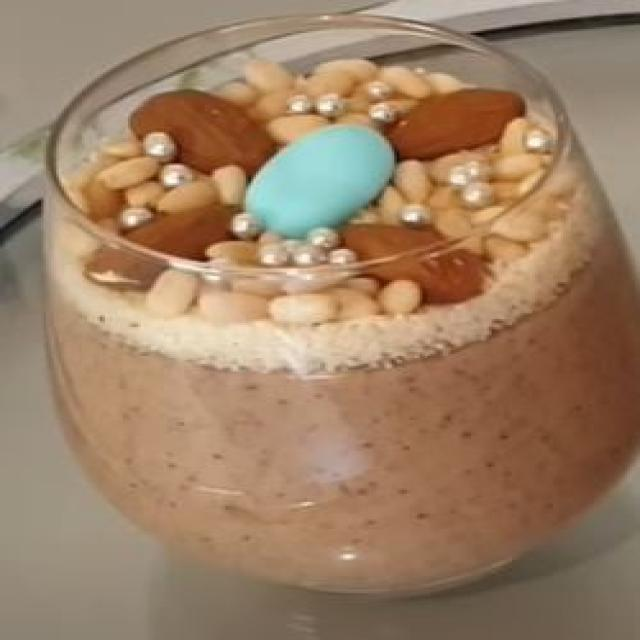asida-zkoukou: (56, 24, 628, 594)
